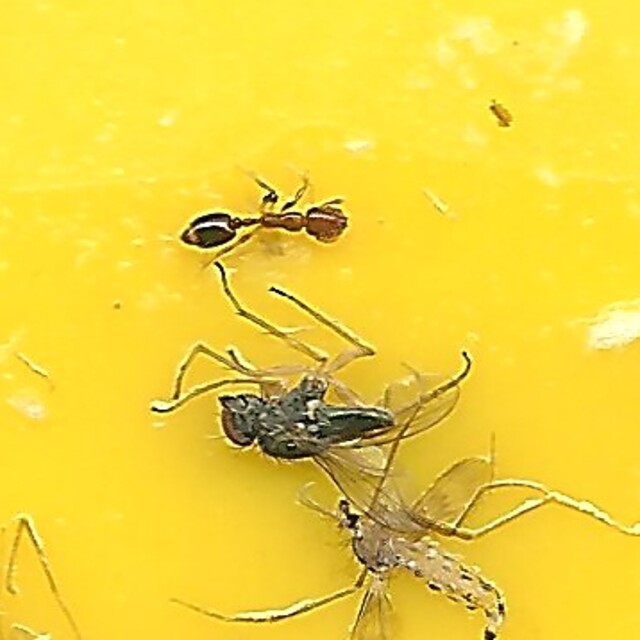Brachycera: (209, 372, 461, 475)
Hymenoptera: (179, 165, 354, 268)
